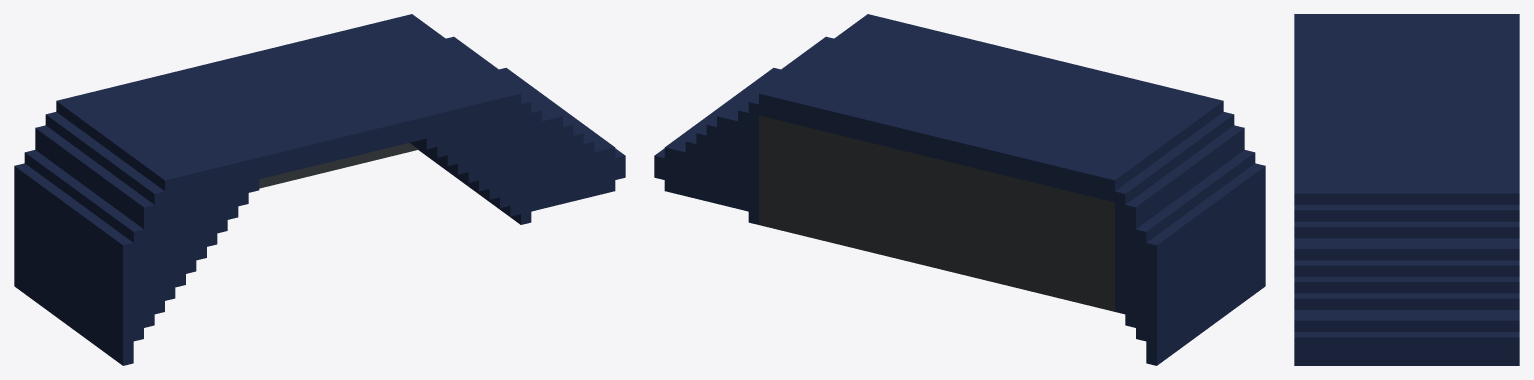
File: swat_truck_wing.glb
The picture shows the model from 3 angles, left to right: view 1: azimuth 30°, elevation 25°; view 2: azimuth 150°, elevation 25°; view 3: azimuth 270°, elevation 25°; orthographic projection. The views are drawn at different scales.
Visible parts, largest first — view 1: body:compound; view 2: body:compound; view 3: body:compound.
Part boxes in pixels (<box>): body:compound: <box>14,14,625,365</box>; body:compound: <box>654,14,1265,365</box>; body:compound: <box>1294,14,1519,365</box>.
Size of the model in its own units: 1.5 by 0.5 by 0.5625.
